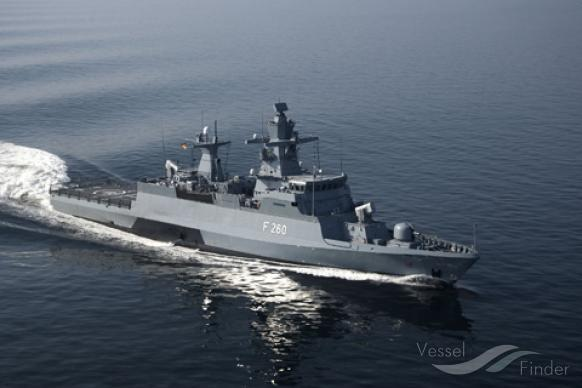OCR: (258, 218, 292, 237)
